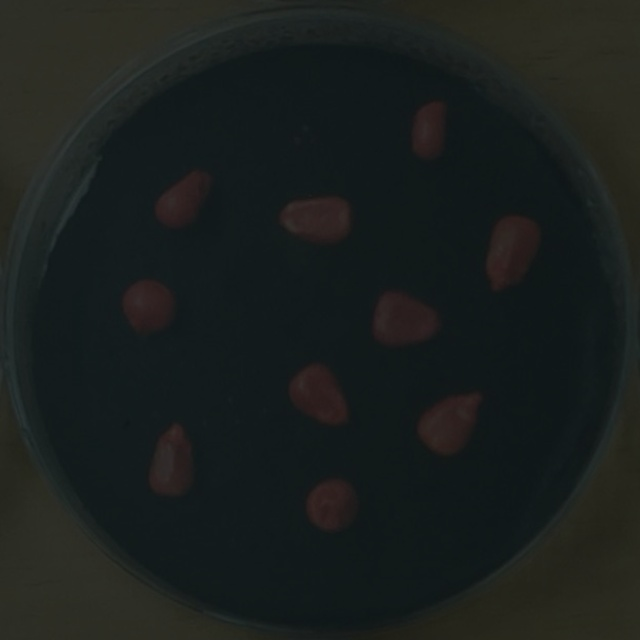Zea mays: (476, 206, 549, 302), (408, 382, 489, 463), (364, 281, 451, 356), (280, 356, 360, 436), (270, 187, 360, 253), (146, 162, 220, 238), (141, 416, 201, 505), (114, 269, 185, 344), (299, 472, 367, 539), (402, 93, 455, 170)
